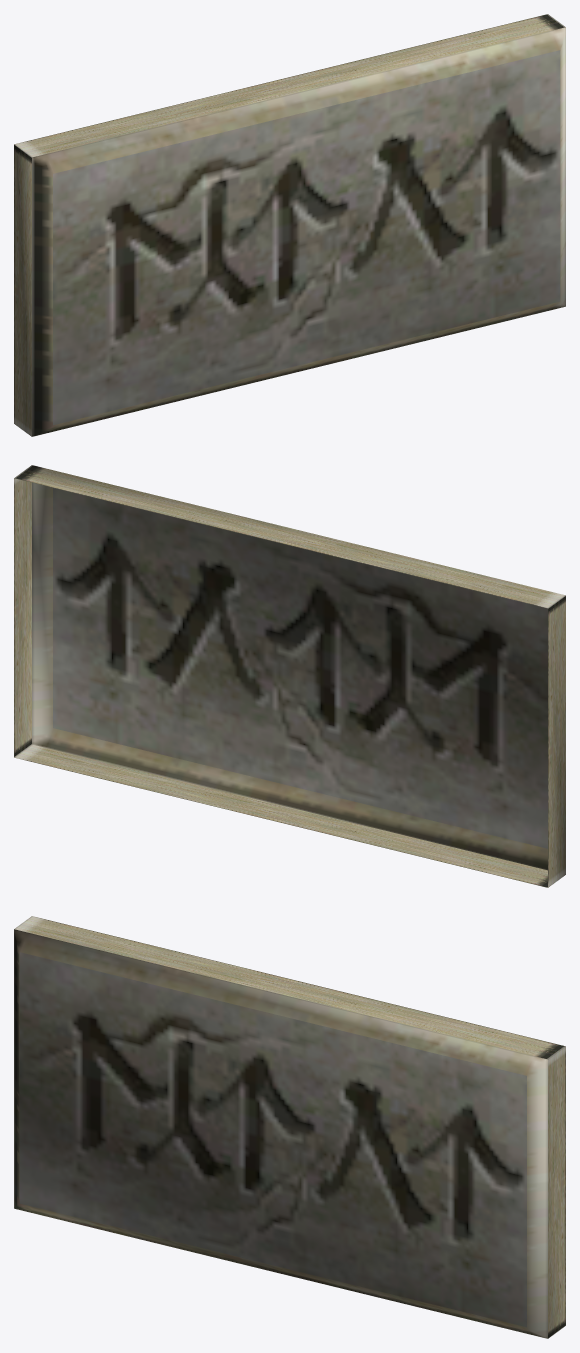
The model's file is DWARF_PALACE_MAINHALL_S_PLAQUE_THROR.fbx.
3 renders of one model, top to bottom at view 1: azimuth 30°, elevation 25°; view 2: azimuth 150°, elevation 25°; view 3: azimuth 330°, elevation 25°, orthographic.
Visible parts, largest first — view 1: DWARF_PALACE_MAINHALL_S_PLAQUE_THROR; view 2: DWARF_PALACE_MAINHALL_S_PLAQUE_THROR; view 3: DWARF_PALACE_MAINHALL_S_PLAQUE_THROR.
Boxes of the visible parts, x1=… form: DWARF_PALACE_MAINHALL_S_PLAQUE_THROR: x1=14, y1=14, x2=565, y2=436; DWARF_PALACE_MAINHALL_S_PLAQUE_THROR: x1=14, y1=465, x2=565, y2=887; DWARF_PALACE_MAINHALL_S_PLAQUE_THROR: x1=14, y1=916, x2=565, y2=1338.
Bounding box in the file's own units: 12000 × 6000 × 1000.
Materials: 2 (2 with a texture image).
